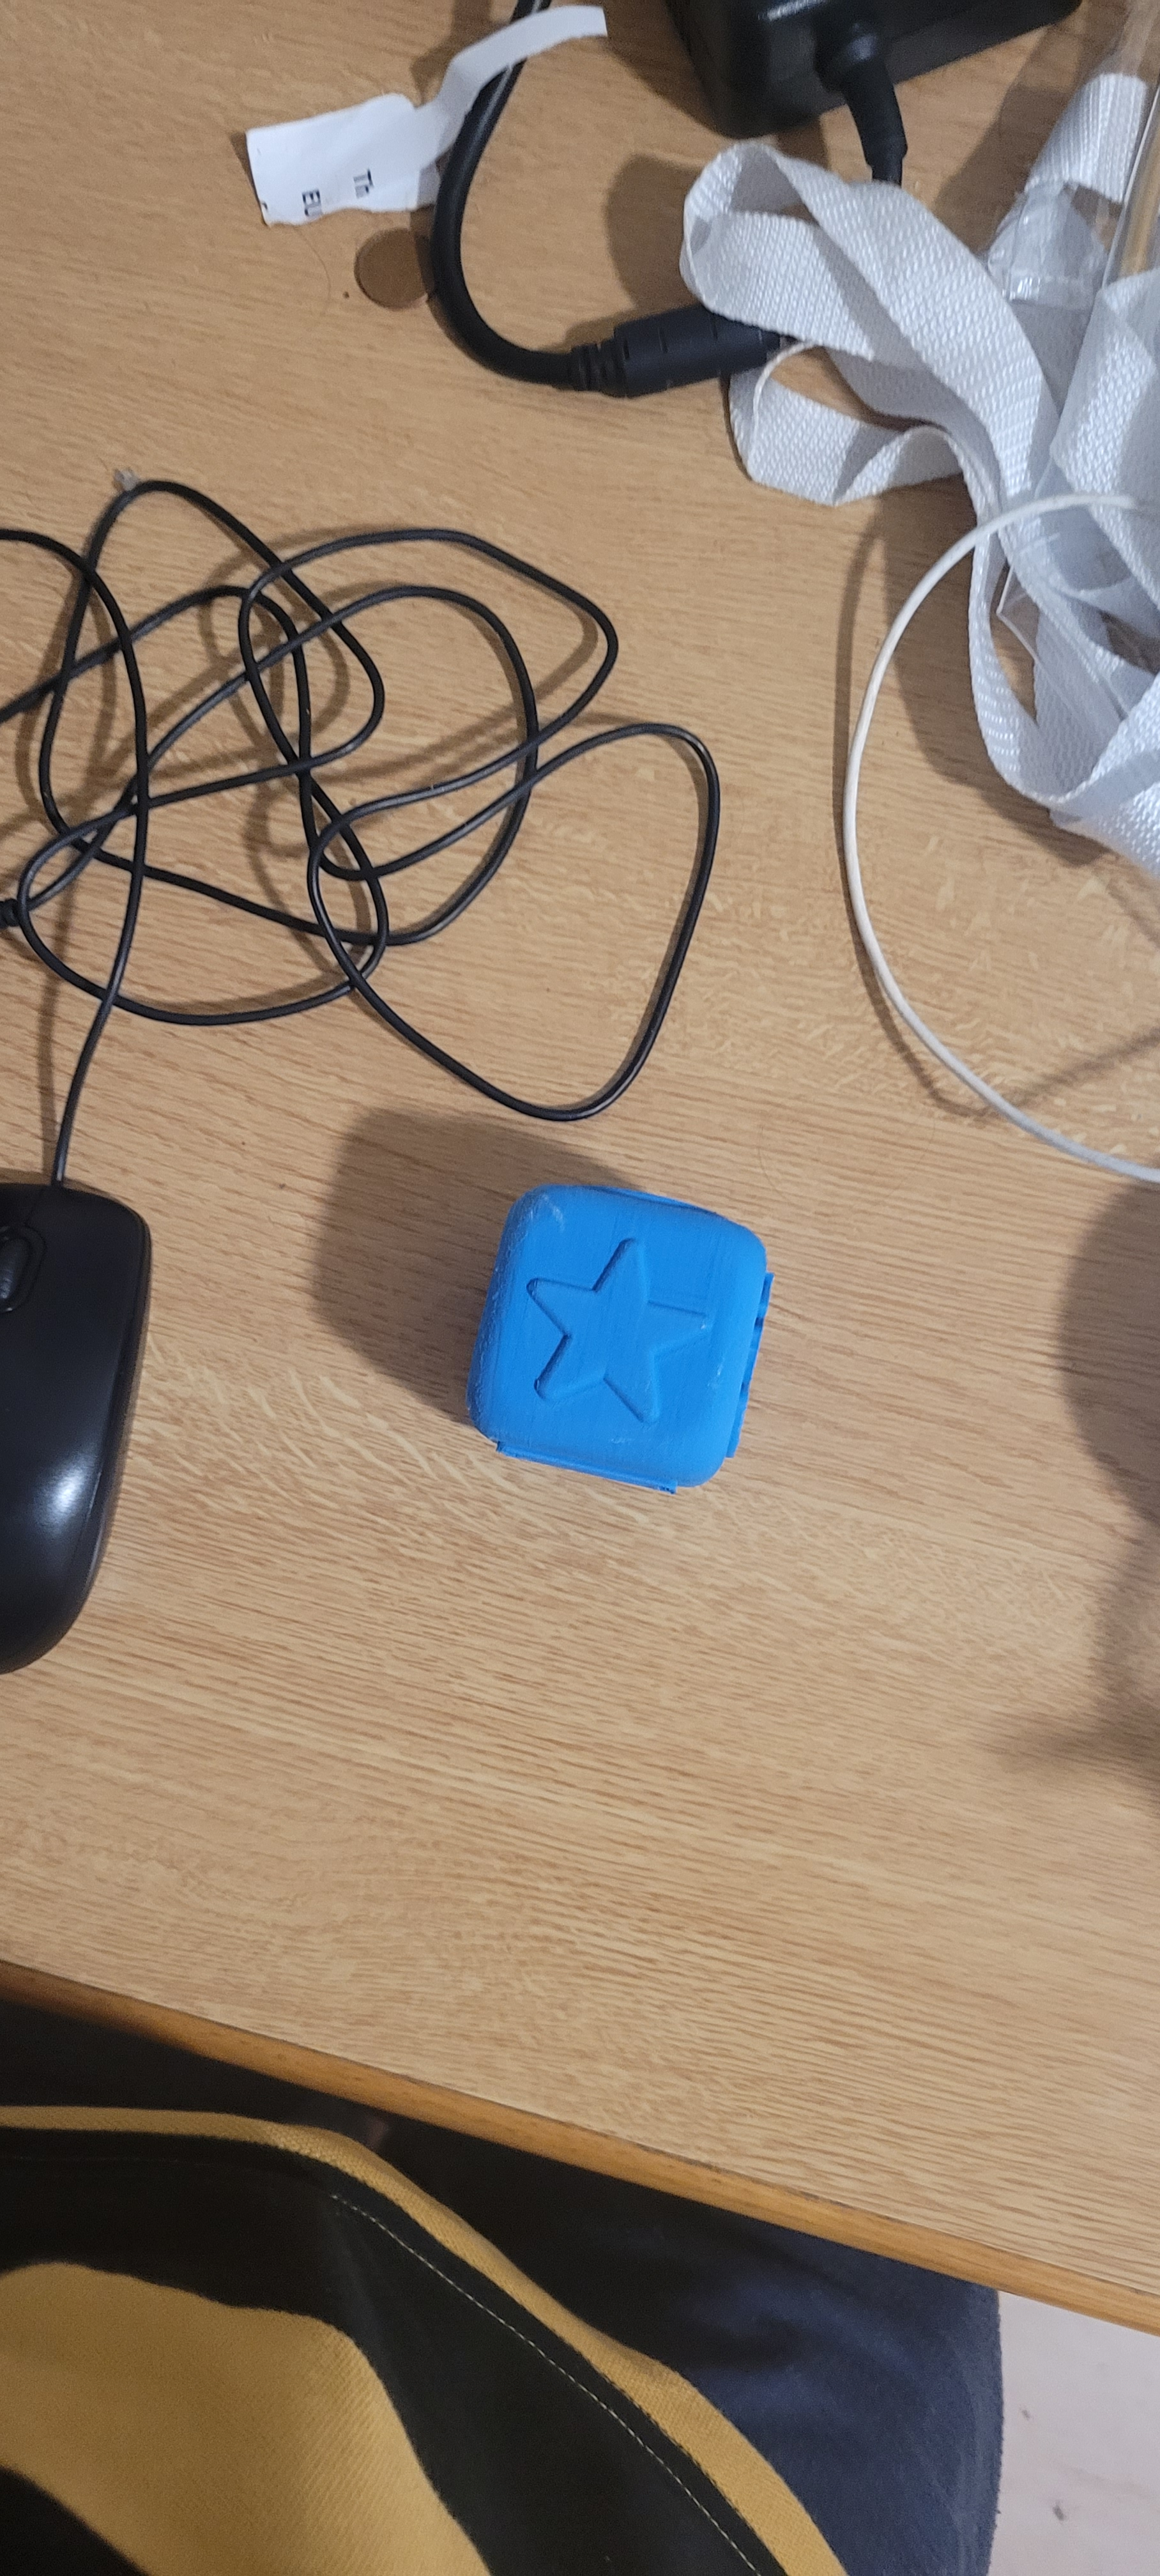Star: (506, 1170, 744, 1451)
